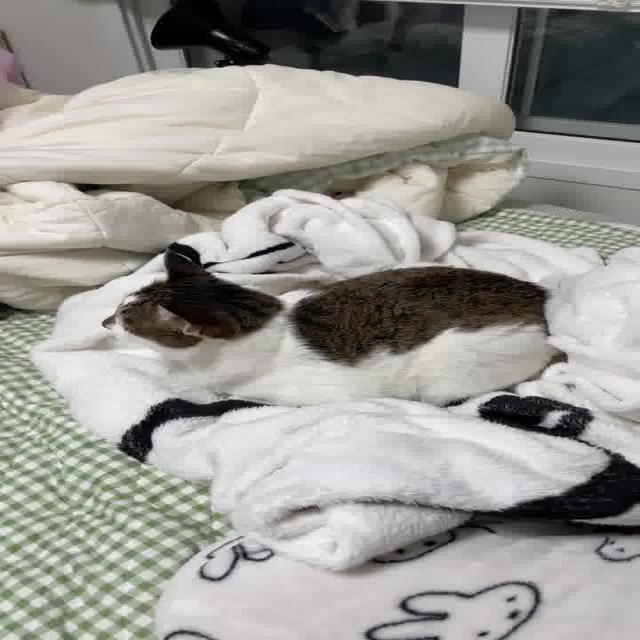cat: (69, 231, 592, 418)
